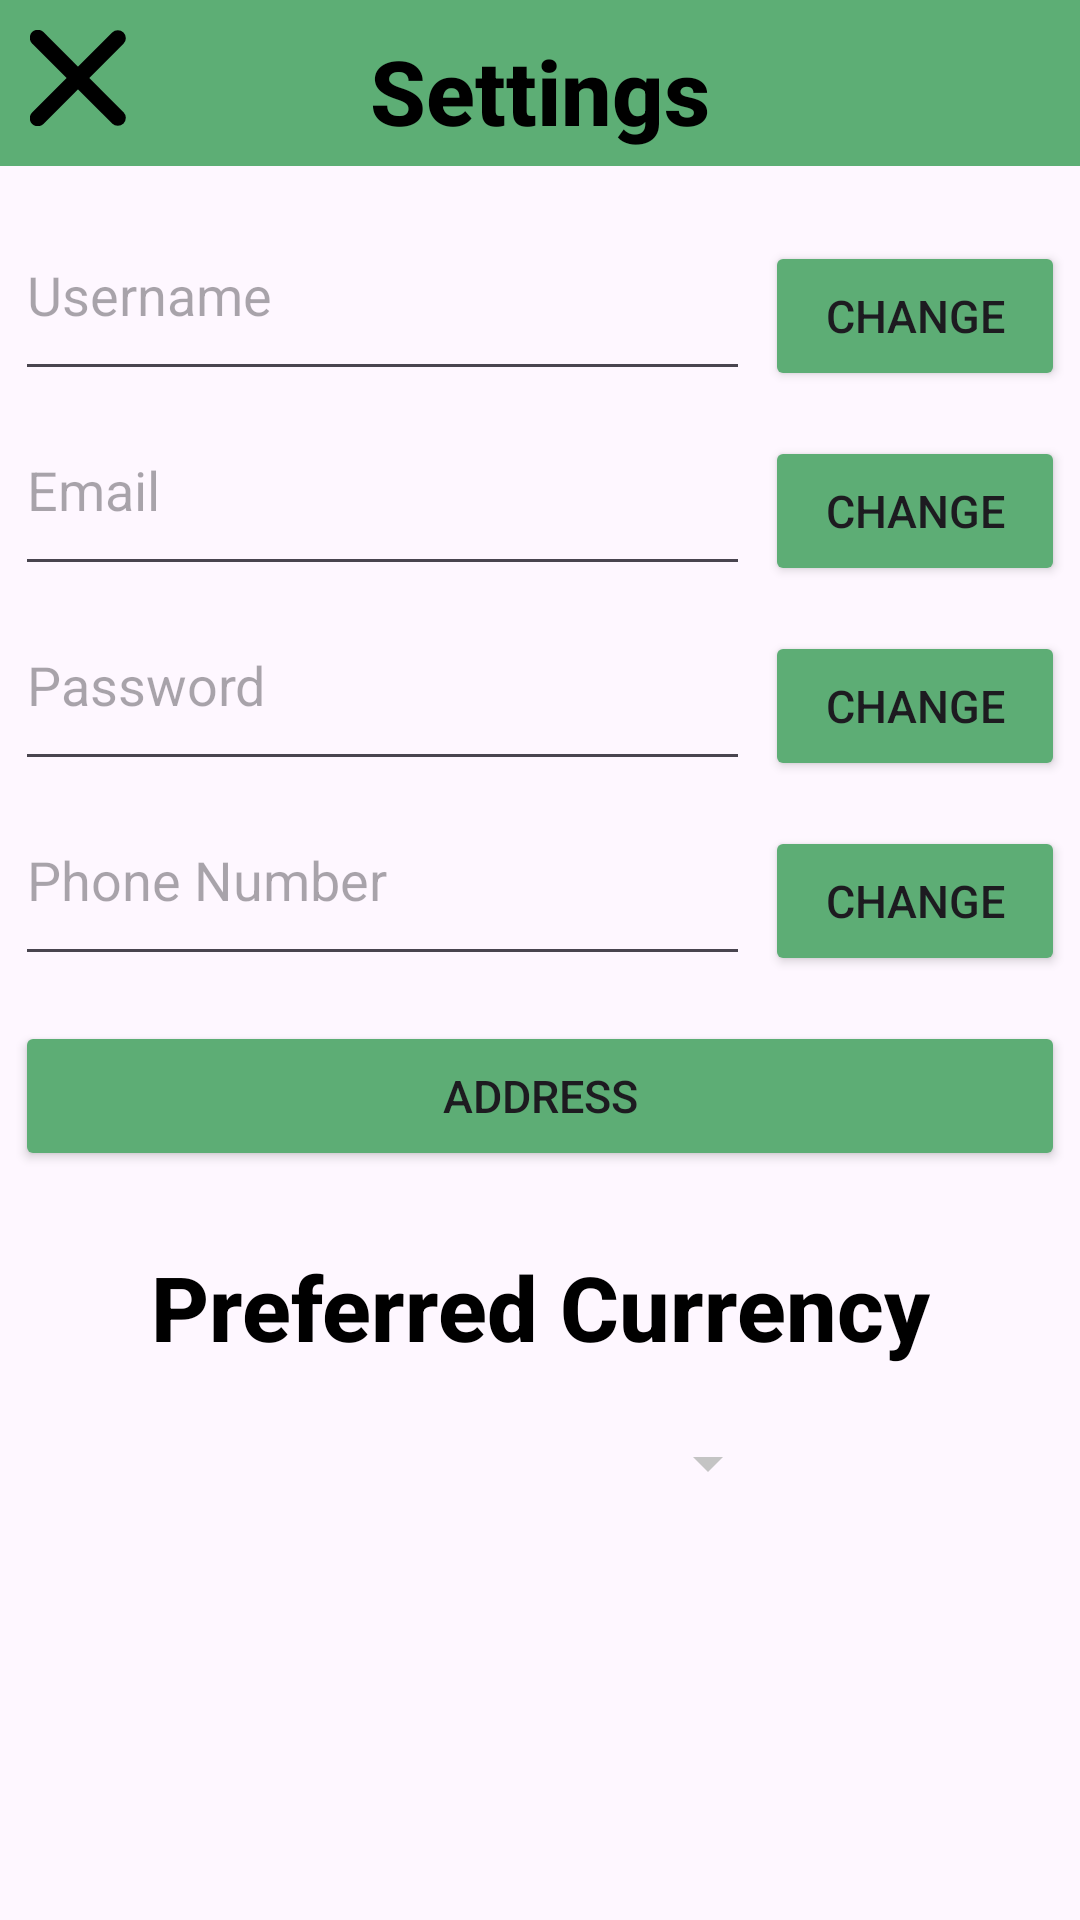

Locate icon controls on the screen. Image size 1080 x 1920, boxes as [x1, y1, x2, y2].
close: [30, 30, 126, 126]
